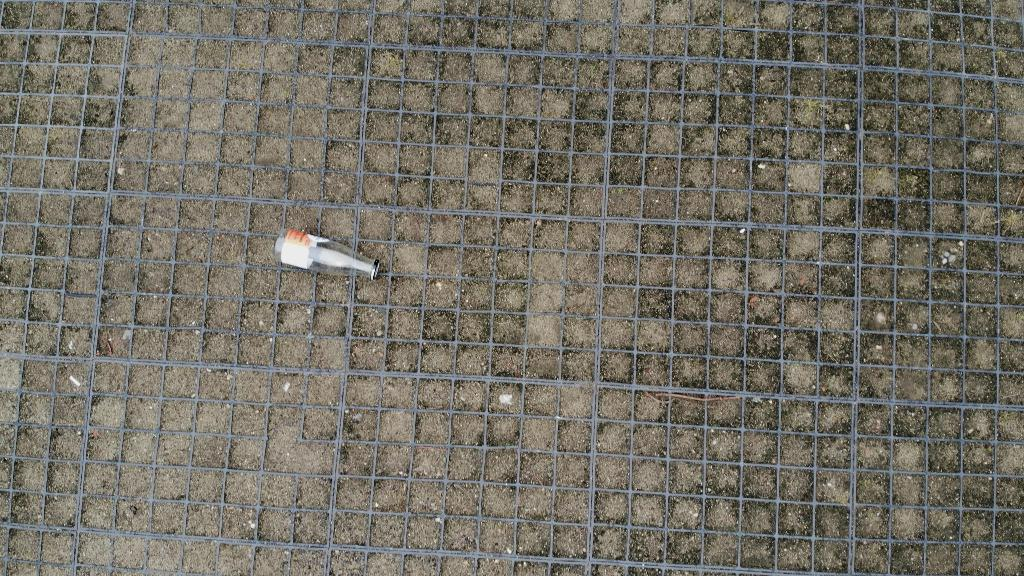garbage: (272, 228, 380, 282)
